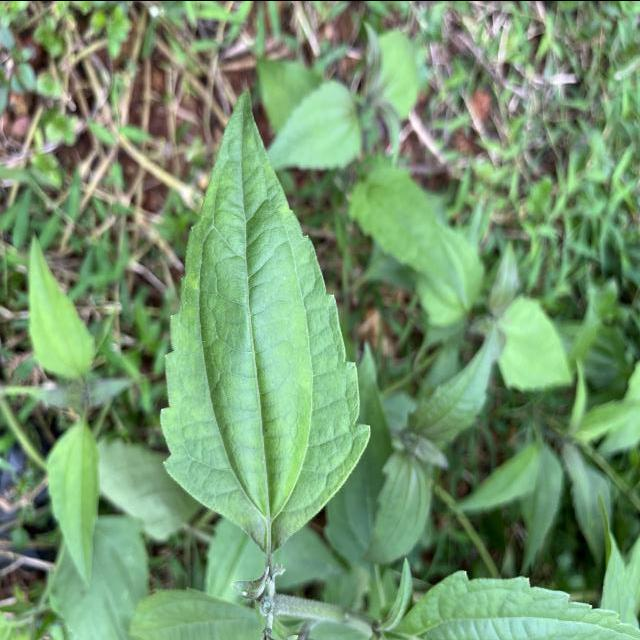Chromolaena odorata: (156, 81, 376, 554)
